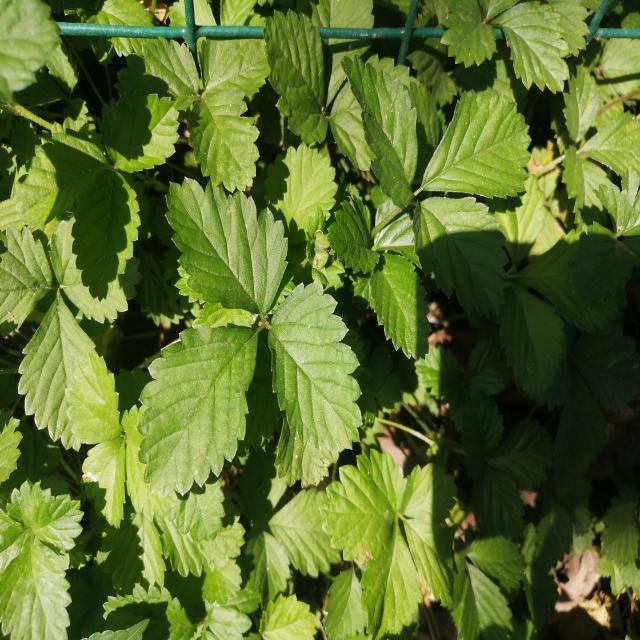Mock_strawberry: (119, 180, 354, 485)
